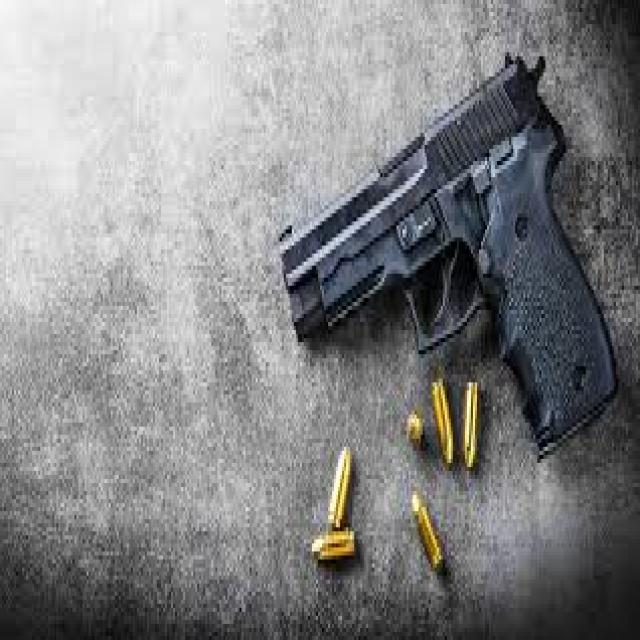weapons: (265, 18, 628, 475)
